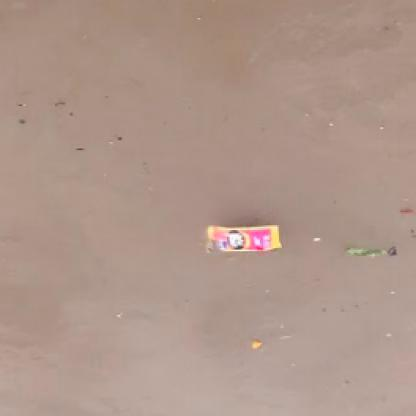Trash: (204, 218, 283, 257), (344, 245, 397, 262)
